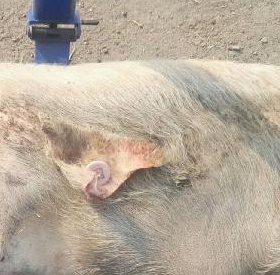text: (66, 141, 127, 201)
